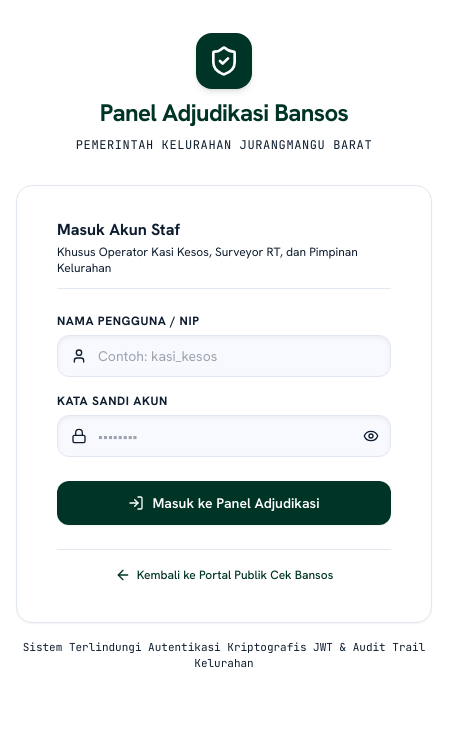
Test case: LoginPage Staff Authentication › displays error banner on authentication failure
The width and height of the screenshot is (449, 736).
In the field labelled "Nama Pengguna / NIP": (224, 356) [57, 334, 391, 376], type "wrong_user"
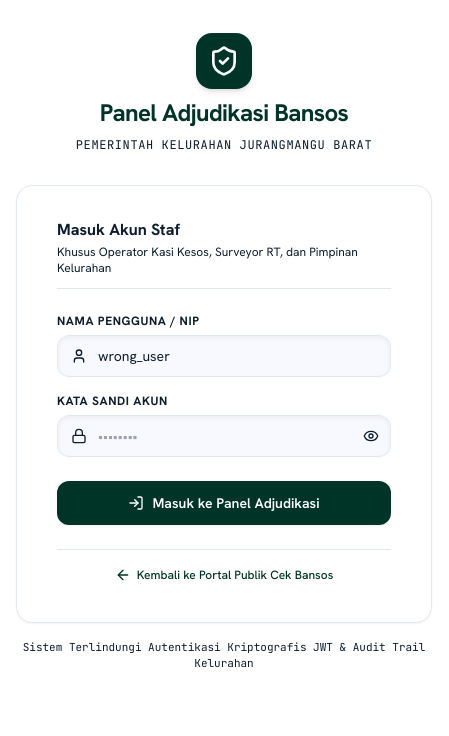
In the password field labelled "Kata Sandi Akun": (224, 436) [57, 414, 391, 456], type "wrong_pass"
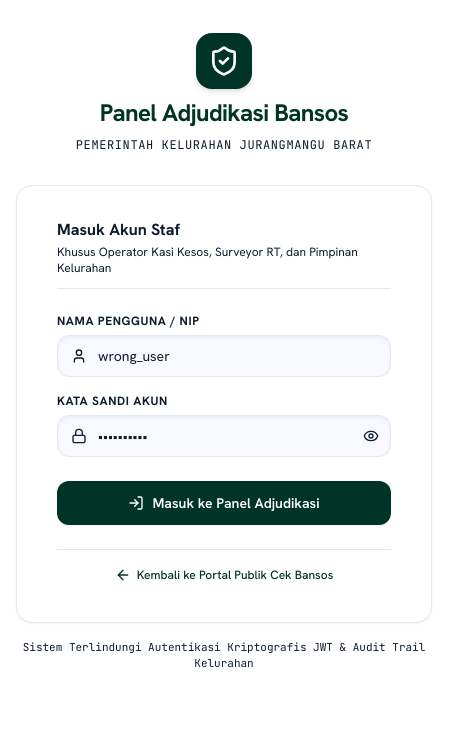
Click the button "Masuk ke Panel Adjudikasi": (224, 502) [57, 480, 391, 524]
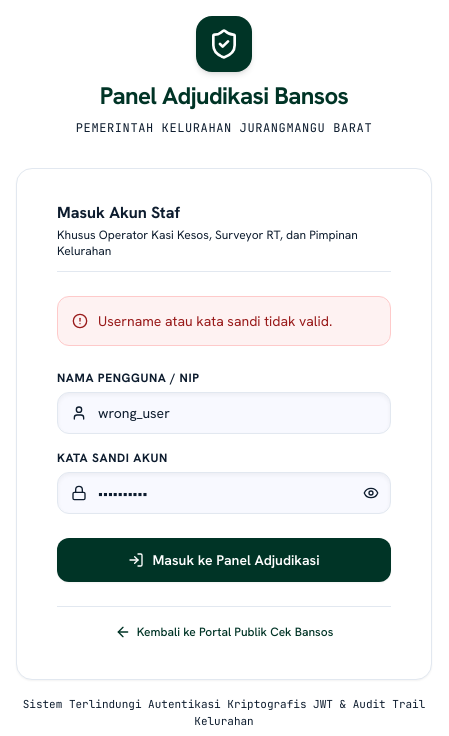
Check: the text "Username atau kata sandi tidak valid." is shown, box [98, 311, 332, 331]
